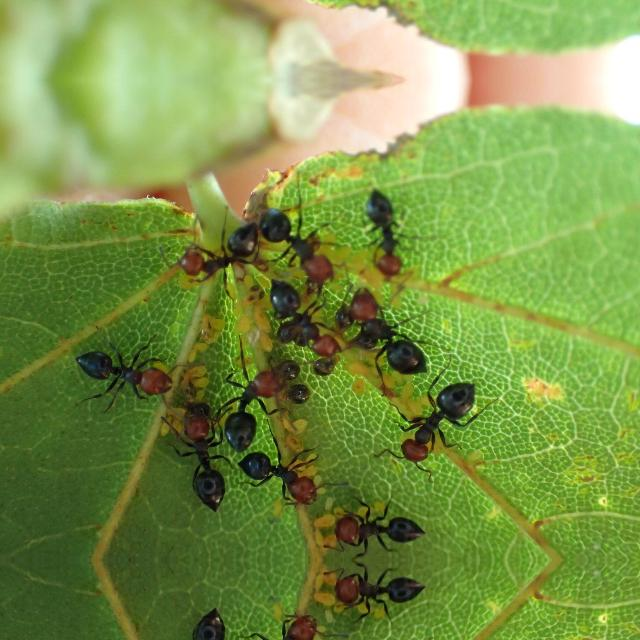Crematogaster: (392, 367, 488, 475), (218, 367, 300, 461), (170, 214, 264, 292), (356, 291, 432, 387), (74, 340, 184, 404), (220, 451, 322, 519), (176, 406, 237, 514), (256, 212, 340, 288), (353, 188, 412, 290), (269, 283, 345, 361), (322, 496, 412, 560), (322, 560, 412, 624), (219, 601, 322, 640), (175, 606, 236, 640)
